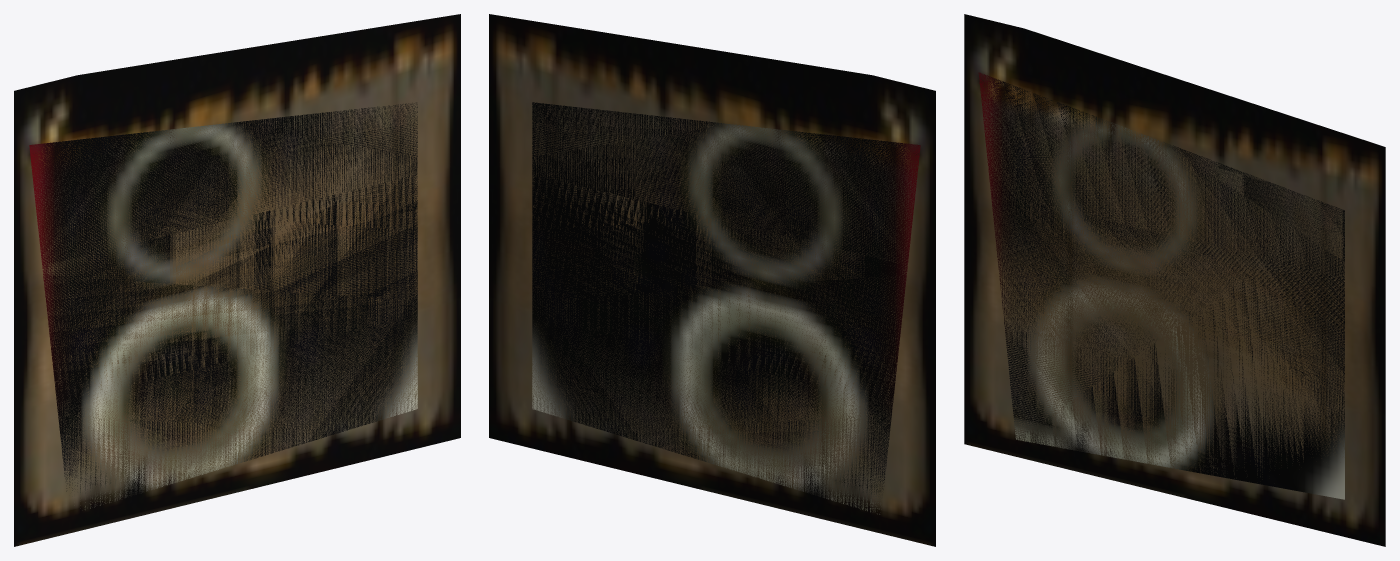
The model's file is new_story_quest_icon.fbx.
3 renders of one model, left to right at view 1: azimuth 30°, elevation 25°; view 2: azimuth 150°, elevation 25°; view 3: azimuth 330°, elevation 25°, orthographic. The views are drawn at different scales.
Parts seen in each view (by area): view 1: pPlane1, pPlane2; view 2: pPlane1, pPlane2; view 3: pPlane1, pPlane2.
Part boxes in pixels (box(x1,y1,x2,y2)): pPlane1: box(14, 14, 460, 546); pPlane2: box(29, 102, 417, 509); pPlane1: box(489, 14, 935, 546); pPlane2: box(532, 102, 920, 514); pPlane1: box(964, 14, 1385, 546); pPlane2: box(978, 72, 1344, 499).
Bounding box in the file's own units: 94.63 × 92.35 × 1.5e-05.
1 material, 1 textured.
